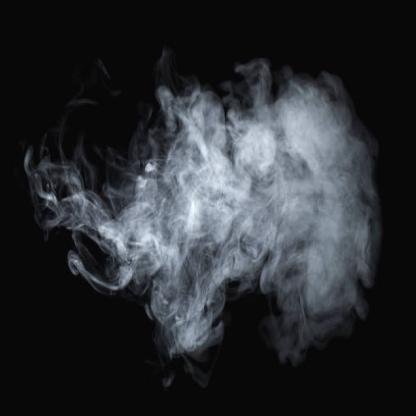smoke: (124, 76, 376, 365), (29, 164, 126, 286)
